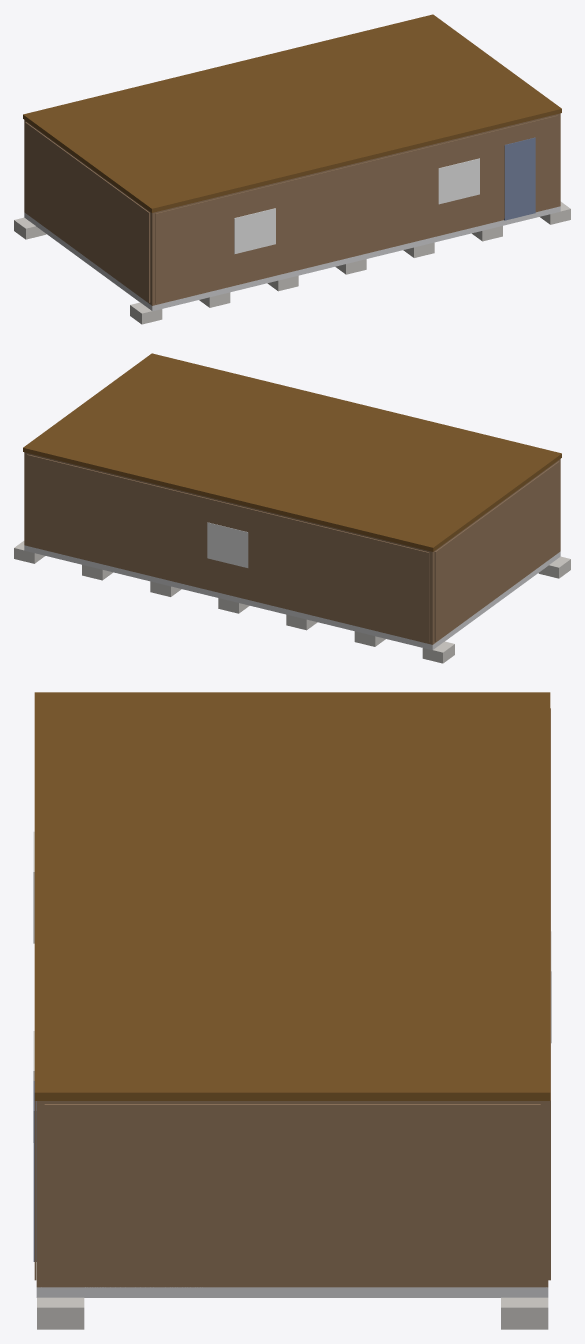
Rendered from Studio-40-Base-DarkBrown-LOD3.glb.
3 renders of one model, top to bottom at view 1: azimuth 30°, elevation 25°; view 2: azimuth 150°, elevation 25°; view 3: azimuth 270°, elevation 25°, orthographic. The views are drawn at different scales.
Visible parts, largest first — view 1: RoofMain, ExteriorPanelsStandard, BaseFrame, WindowsStandard, ExteriorShell, FoundationBlocks, EntryDoor; view 2: RoofMain, ExteriorPanelsStandard, BaseFrame, ExteriorShell, FoundationBlocks, WindowsStandard; view 3: RoofMain, ExteriorPanelsStandard, ExteriorShell, BaseFrame, FoundationBlocks.
Boxes of the visible parts, bbox=[...] form: RoofMain: bbox=[23, 14, 561, 212]; ExteriorPanelsStandard: bbox=[25, 115, 557, 303]; BaseFrame: bbox=[24, 206, 560, 311]; WindowsStandard: bbox=[234, 158, 479, 254]; ExteriorShell: bbox=[24, 113, 560, 305]; FoundationBlocks: bbox=[14, 201, 570, 324]; EntryDoor: bbox=[504, 137, 535, 220]; RoofMain: bbox=[23, 353, 561, 551]; ExteriorPanelsStandard: bbox=[27, 454, 559, 642]; BaseFrame: bbox=[24, 545, 560, 650]; ExteriorShell: bbox=[24, 452, 560, 644]; FoundationBlocks: bbox=[14, 541, 570, 663]; WindowsStandard: bbox=[207, 522, 248, 567]; RoofMain: bbox=[34, 692, 550, 1100]; ExteriorPanelsStandard: bbox=[34, 708, 550, 1284]; ExteriorShell: bbox=[36, 1101, 548, 1287]; BaseFrame: bbox=[36, 1287, 548, 1297]; FoundationBlocks: bbox=[37, 1297, 548, 1329].
Bounding box in the file's own units: 12.49 × 3.17 × 6.53.
